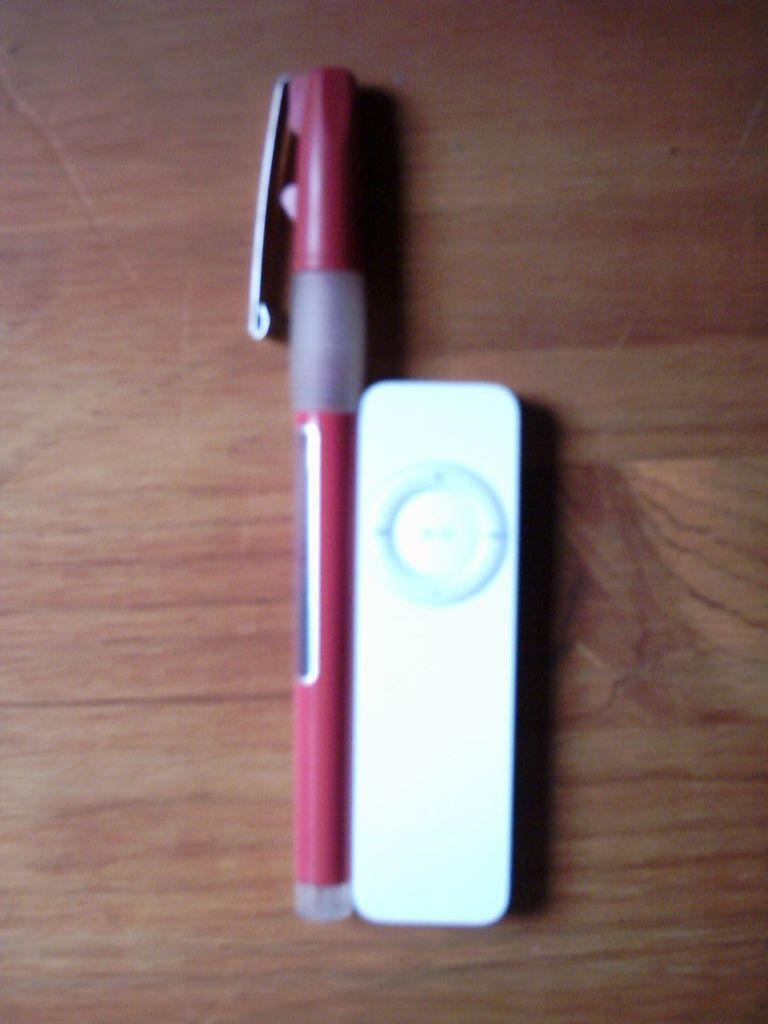pen: (239, 59, 364, 926)
